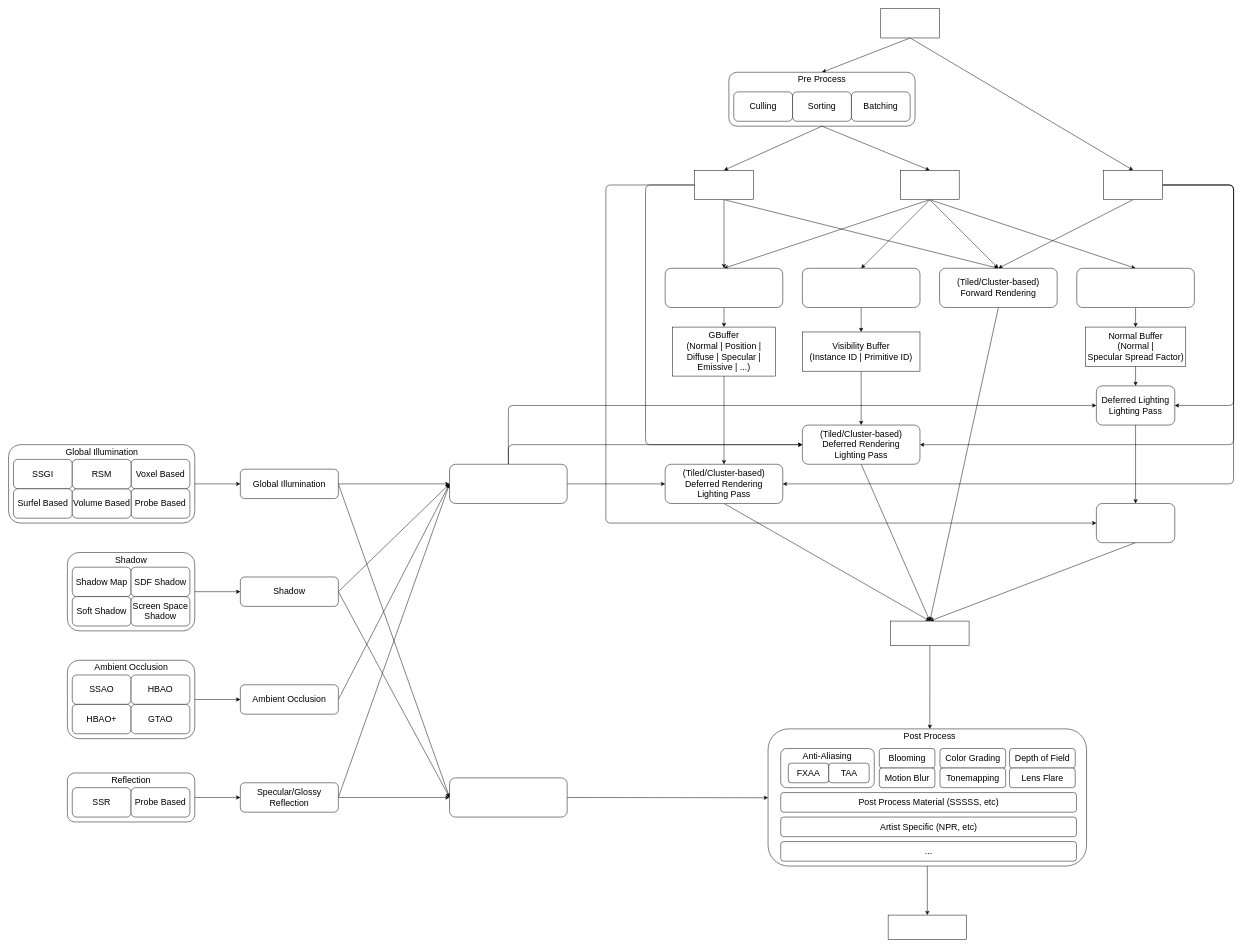
The diagram is 1246 pixels wide and 948 high, and some of its shapes have lost their labels. The centre of each missing label's shape, as x and y in pixels:
(Tiled/Cluster-based) Deferred Rendering Geometry Pass: the point at 724,287
(Tiled/Cluster-based) Deferred Rendering Visibility Pass: the point at 861,287
Deferred Lighting Geometry Pass: the point at 1135,287
Deferred Lighting Shading Pass: the point at 1135,523
Final Result: the point at 927,927
Geometry: the point at 929,185
Light: the point at 1133,185
Material: the point at 723,185
Non-Screen Space Method: the point at 508,483
Scene: the point at 910,23
Screen Space Method: the point at 508,797
Shading Result: the point at 929,633
